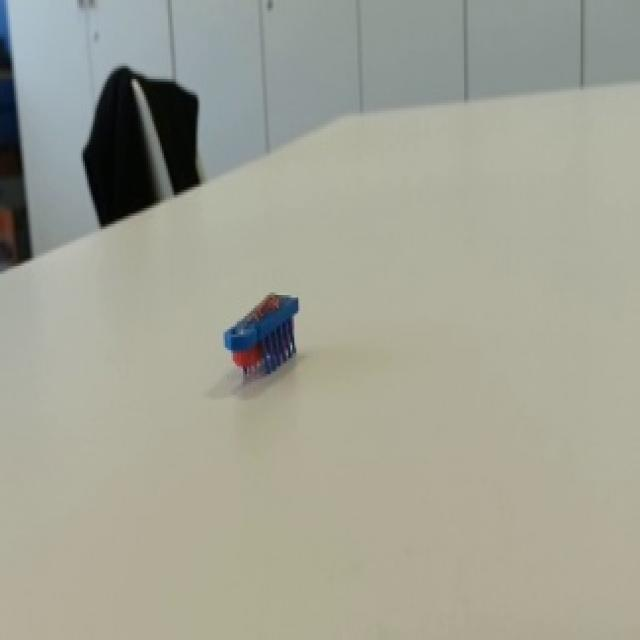1_NanoBug_Azul: (190, 260, 331, 397)
